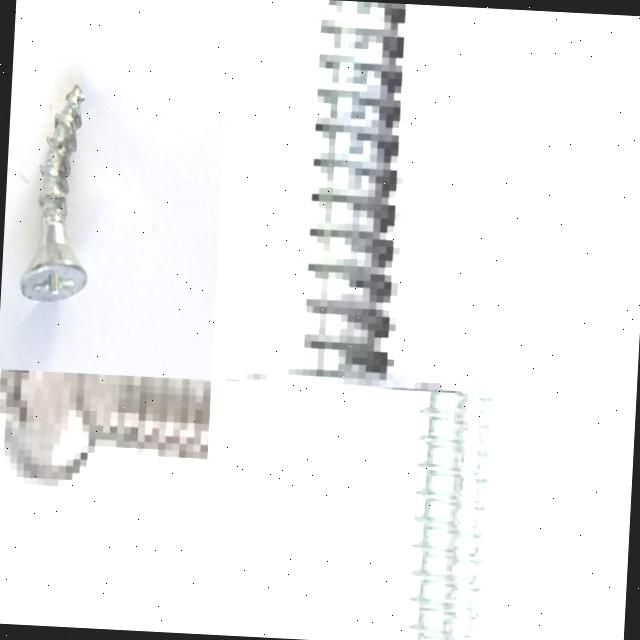Screw: (217, 0, 429, 392), (0, 369, 212, 486), (411, 391, 502, 640), (21, 86, 87, 301)
